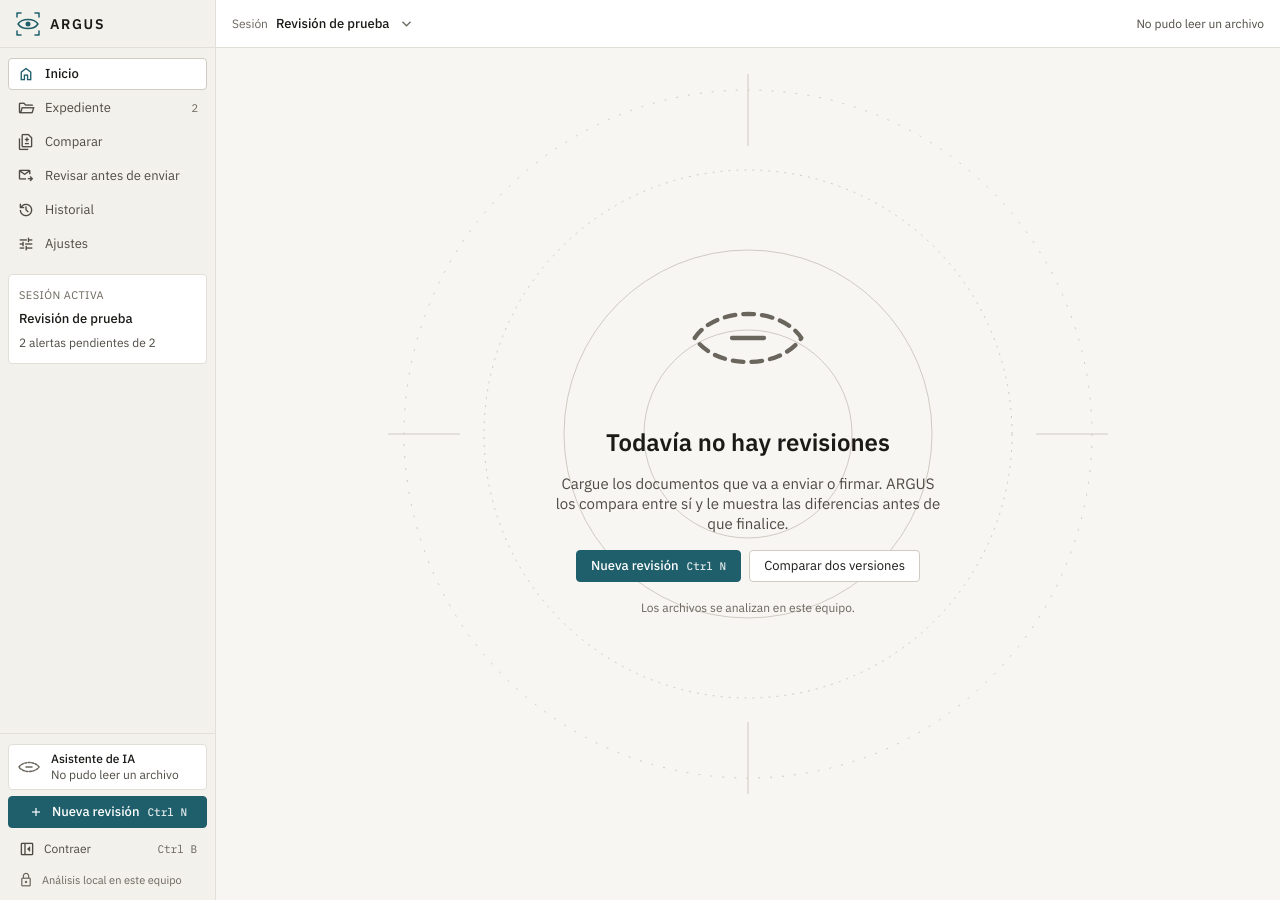
Resultados: filtros, búsqueda y acciones por fila › el menú de la fila crea «No alertar casos similares»
Click the button "Expediente 2" at (108, 108), box [8,92,207,124]
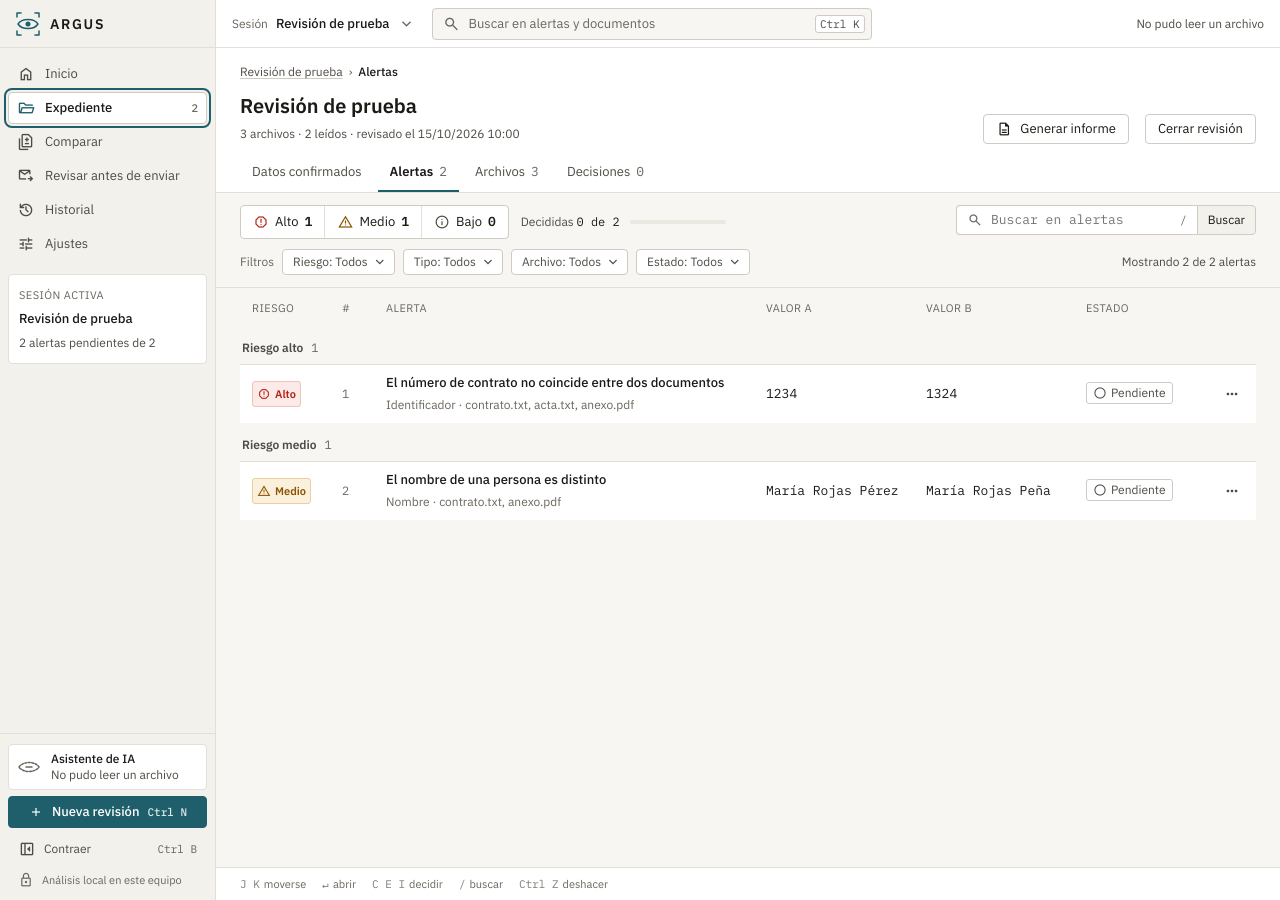
Click the button named "Acciones" in the row of "1234" at (1229, 394), box [1216,381,1242,407]
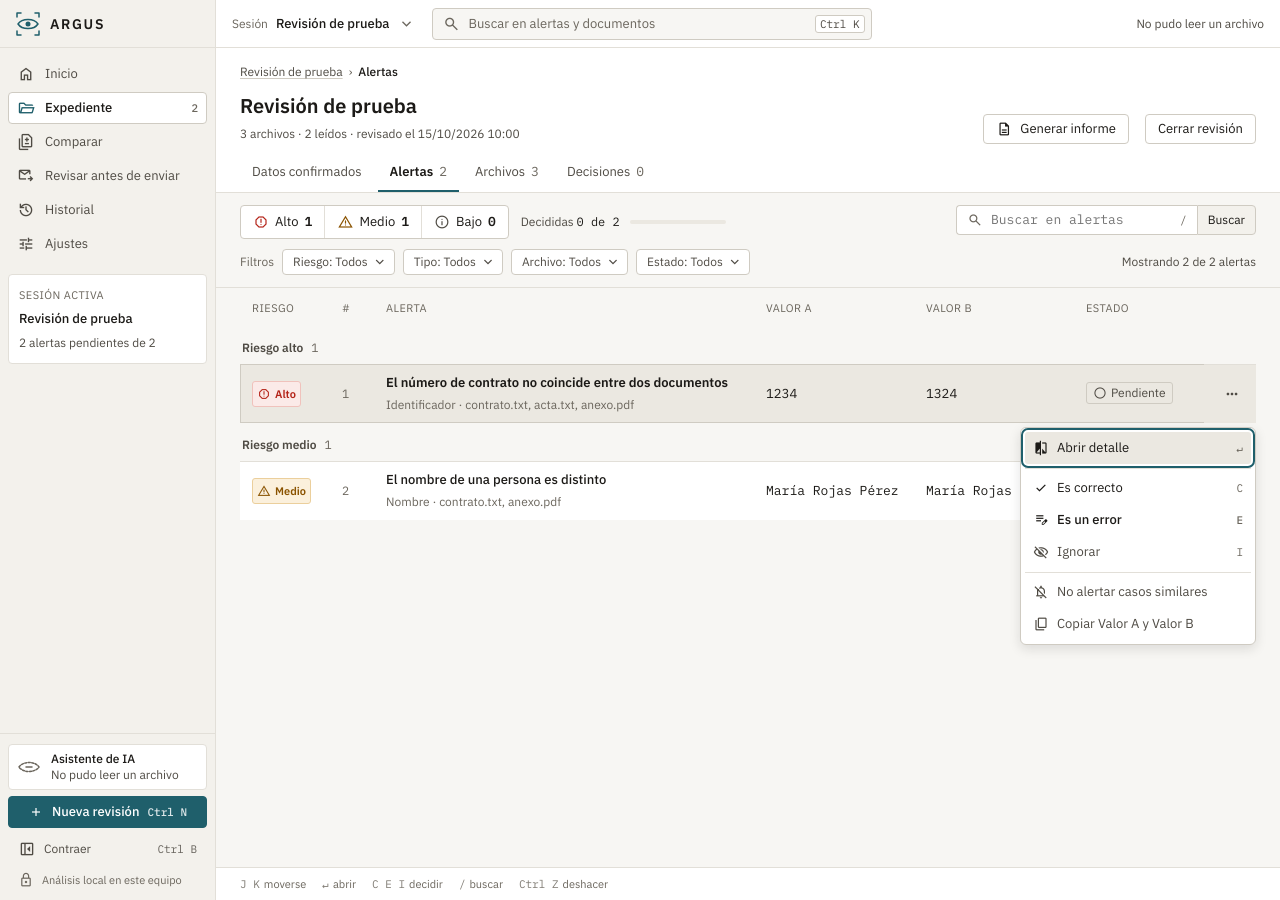
Click the menu item "No alertar casos similares" at (1138, 592), box [1025,576,1251,608]
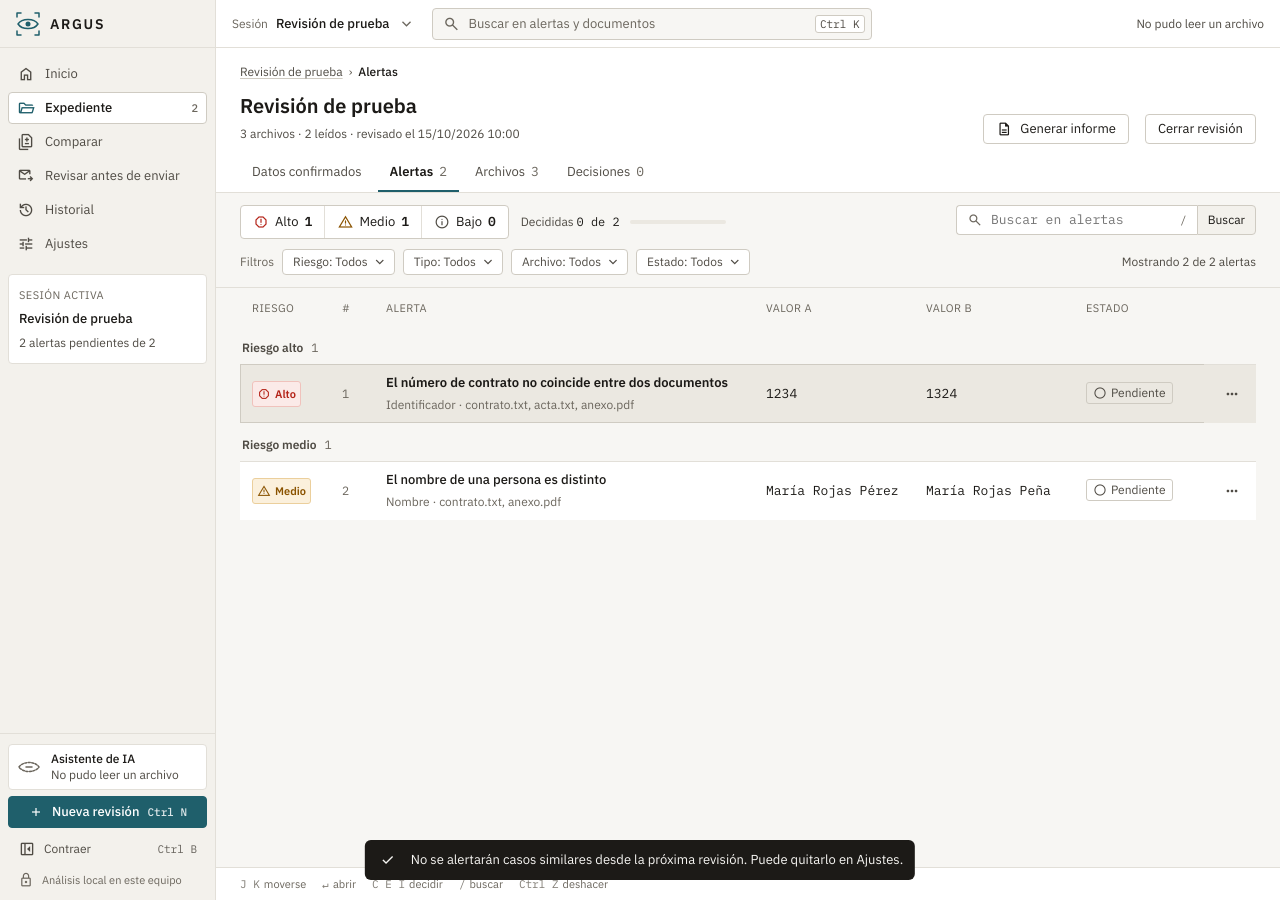
Expected: the text "No se alertarán casos similares" is shown, [411,851,903,868]
